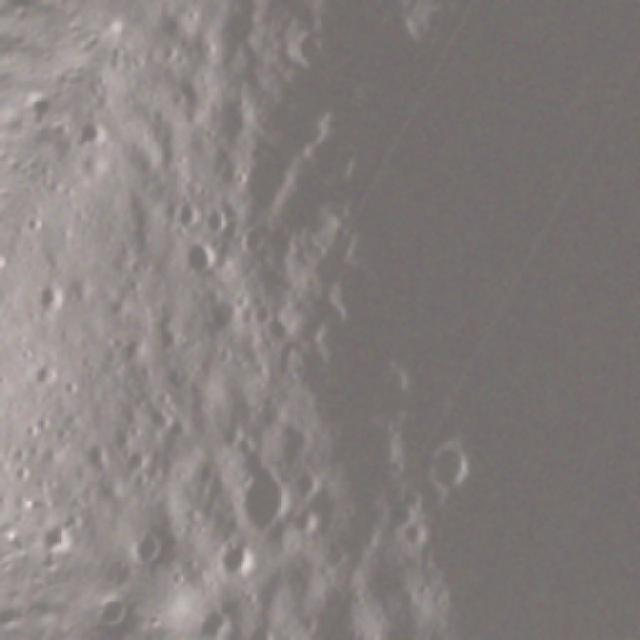crater: (214, 452, 317, 560), (410, 432, 484, 512), (116, 516, 181, 579), (167, 226, 231, 288), (274, 15, 335, 80), (98, 322, 157, 382), (66, 105, 126, 163), (21, 272, 76, 328), (228, 215, 281, 272), (74, 429, 123, 480), (245, 0, 323, 8), (0, 408, 2, 467)
